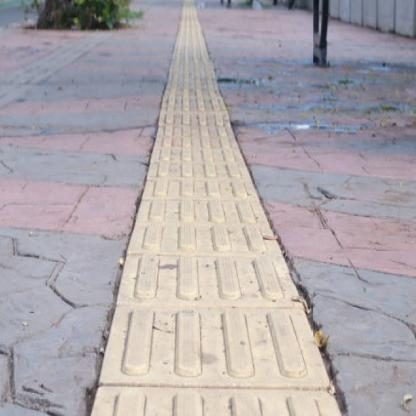podotacti: (84, 0, 346, 416)
